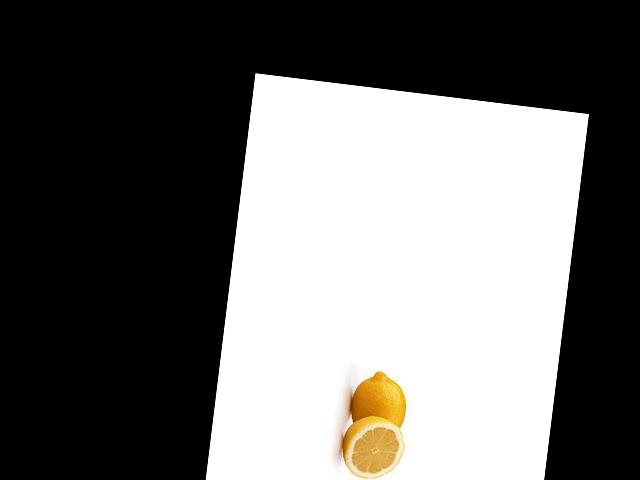lemon: (342, 361, 415, 441)
